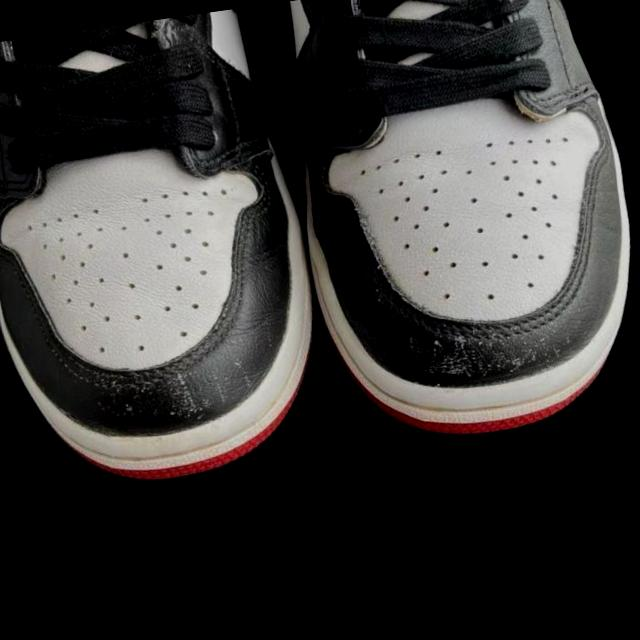nike_original_jordan: (0, 2, 347, 503), (273, 0, 640, 455)
